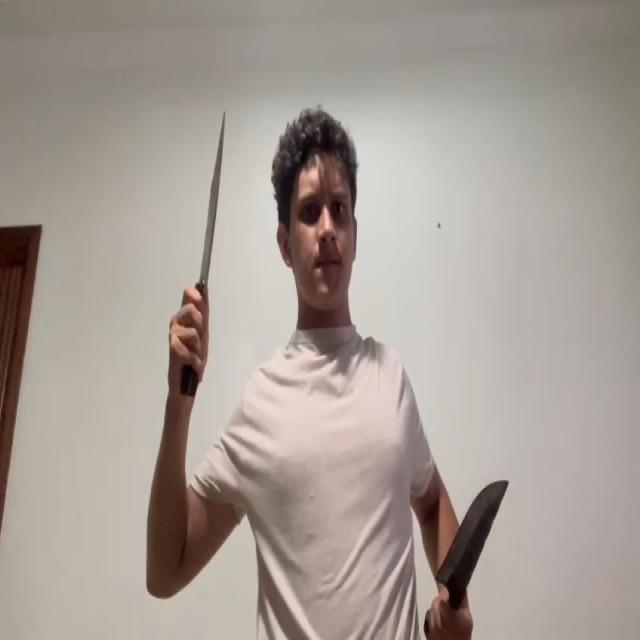knife: (434, 478, 510, 584), (200, 111, 228, 301)
